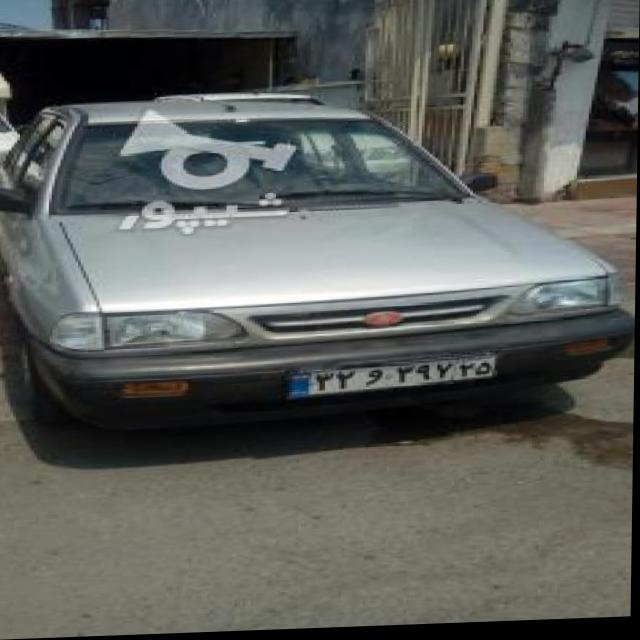licence: (288, 356, 493, 401)
